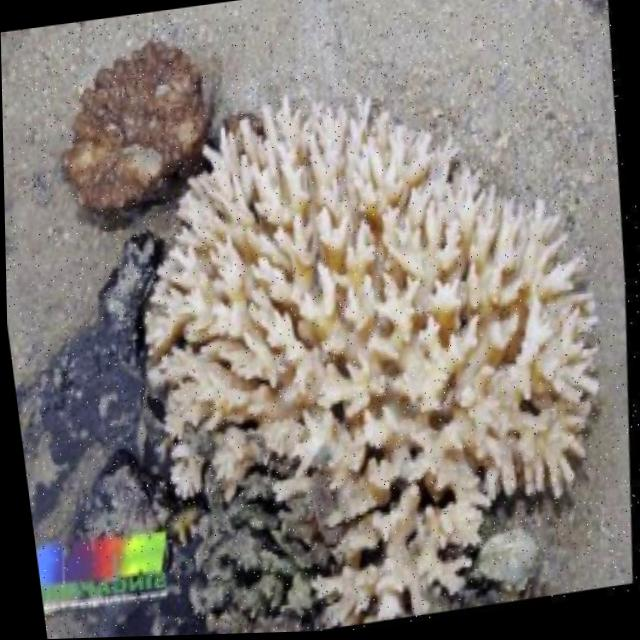Bleached Coral: (97, 30, 640, 638)
